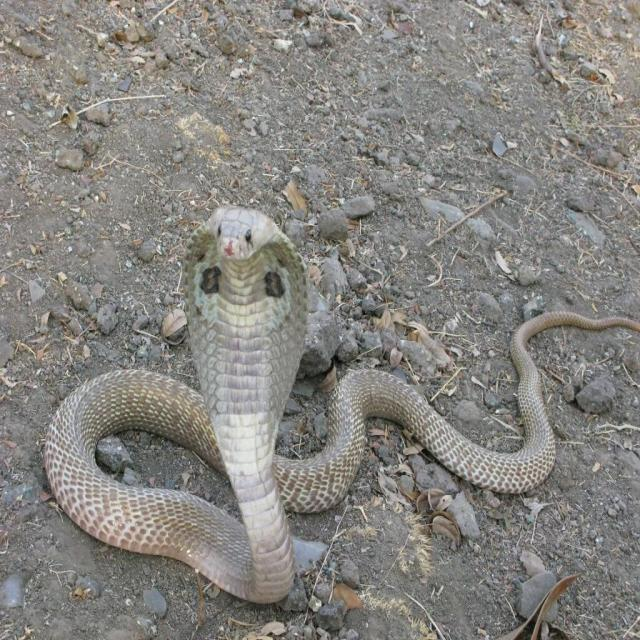Snake: (42, 203, 638, 604)
